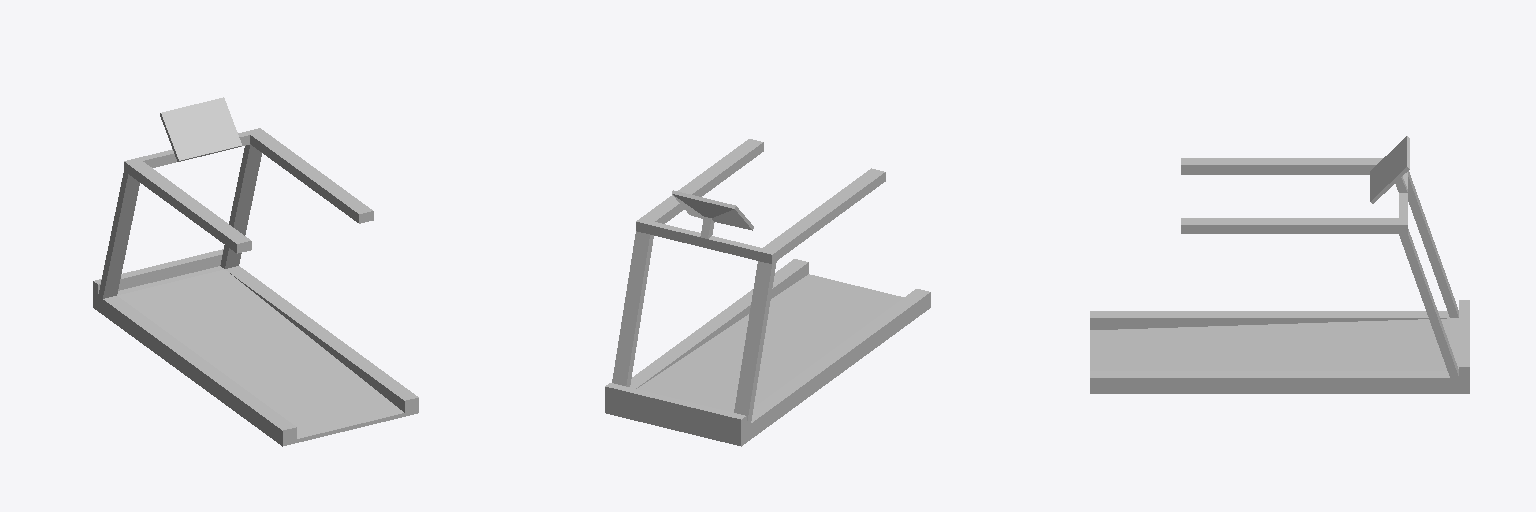
The model's file is running.obj.
3 views of the same model, side by side, from view 1: azimuth 30°, elevation 25°; view 2: azimuth 150°, elevation 25°; view 3: azimuth 270°, elevation 25° (orthographic).
Visible parts, largest first — view 1: 立方体; view 2: 立方体; view 3: 立方体.
Boxes of the visible parts, <box> form: 立方体: <box>93,97,418,446</box>; 立方体: <box>605,139,930,446</box>; 立方体: <box>1090,136,1469,393</box>.
Bounding box in the file's own units: 3.4 × 4.98 × 8.18.